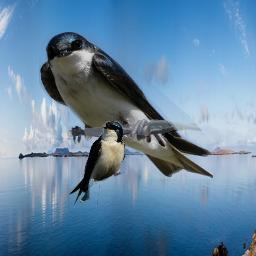Swallow: (39, 32, 213, 179), (69, 121, 125, 205)
